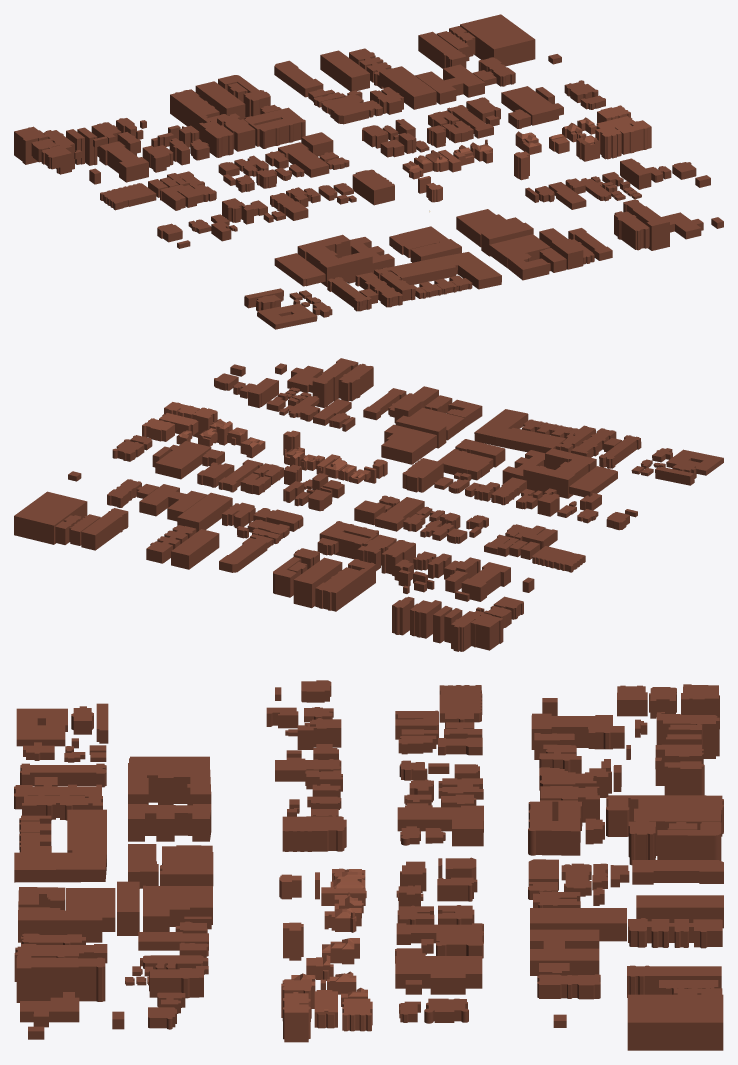
The model's file is Basic_Buildings_1.fbx.
3 renders of one model, top to bottom at view 1: azimuth 30°, elevation 25°; view 2: azimuth 150°, elevation 25°; view 3: azimuth 270°, elevation 25°, orthographic. The views are drawn at different scales.
Parts seen in each view (by area): view 1: Group8, Group7, Group5, Group3, Group6, Bunker_Hill_Block_One1, Group1, Group9, Group4; view 2: Group8, Group7, Group5, Group3, Group6, Group1, Bunker_Hill_Block_One1, Group9, Group4; view 3: Group7, Group8, Group5, Group3, Group6, Group1, Group9, Bunker_Hill_Block_One1, Group4.
Part boxes in pixels (<box>): Group8: <box>14,75,305,184</box>; Group7: <box>274,14,561,124</box>; Group5: <box>456,158,723,280</box>; Group3: <box>244,252,501,329</box>; Group6: <box>362,80,605,157</box>; Bunker_Hill_Block_One1: <box>402,105,651,202</box>; Group1: <box>100,132,349,210</box>; Group9: <box>274,226,461,286</box>; Group4: <box>157,169,394,248</box>; Group8: <box>273,521,534,651</box>; Group7: <box>14,471,303,572</box>; Group5: <box>214,358,482,464</box>; Group3: <box>474,409,723,485</box>; Group6: <box>112,435,344,511</box>; Group1: <box>354,495,585,572</box>; Bunker_Hill_Block_One1: <box>142,402,387,483</box>; Group9: <box>437,439,617,498</box>; Group4: <box>402,458,637,530</box>; Group7: <box>528,859,723,1050</box>; Group8: <box>528,684,723,865</box>; Group5: <box>14,881,212,1039</box>; Group3: <box>14,703,108,882</box>; Group6: <box>395,857,483,1023</box>; Group1: <box>395,685,483,846</box>; Group9: <box>128,756,213,888</box>; Bunker_Hill_Block_One1: <box>279,868,372,1042</box>; Group4: <box>266,680,346,851</box>.
Size of the model in its own units: 17777 by 1642 by 15962.
